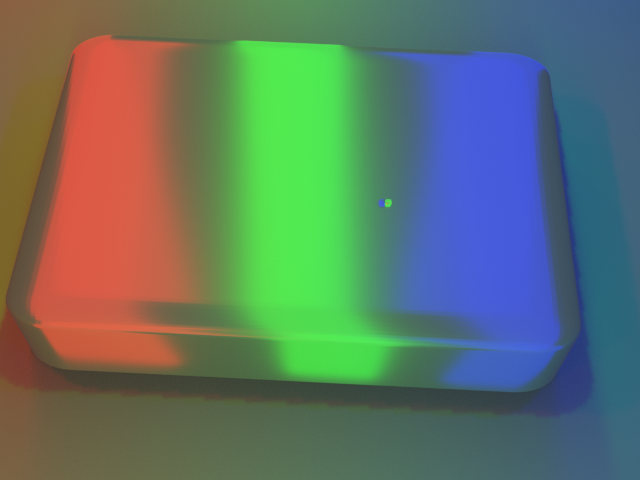dent: (373, 185, 407, 215)
